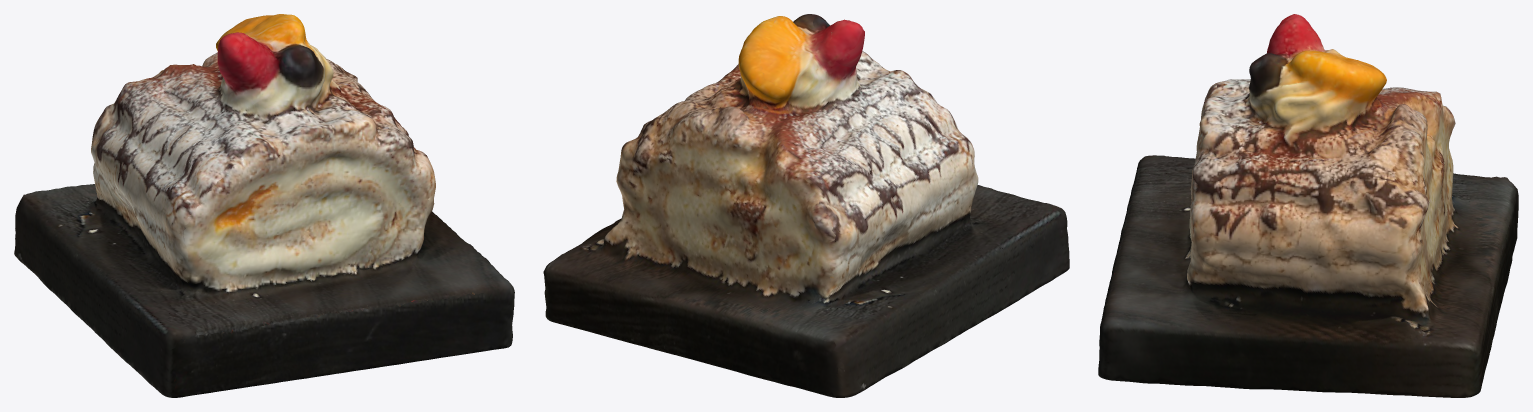
Rendered from cake2.gltf.
The picture shows the model from 3 angles, left to right: view 1: azimuth 30°, elevation 25°; view 2: azimuth 150°, elevation 25°; view 3: azimuth 270°, elevation 25°; orthographic projection. The views are drawn at different scales.
Parts seen in each view (by area): view 1: mesh; view 2: mesh; view 3: mesh.
Part boxes in pixels (x1=…): mesh: x1=14, y1=14, x2=514, y2=397; mesh: x1=543, y1=14, x2=1069, y2=397; mesh: x1=1098, y1=14, x2=1518, y2=397.
Size of the model in its own units: 5.26 by 3.89 by 5.34.
Materials: 1 (1 with a texture image).
